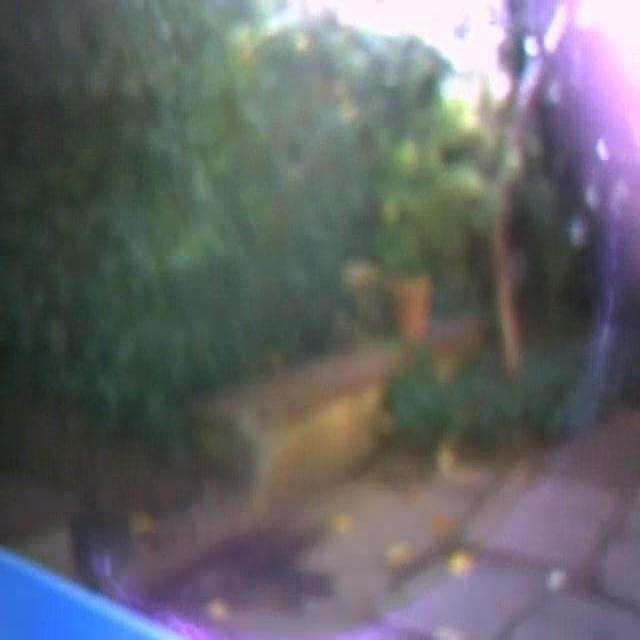other: (325, 3, 638, 182)
